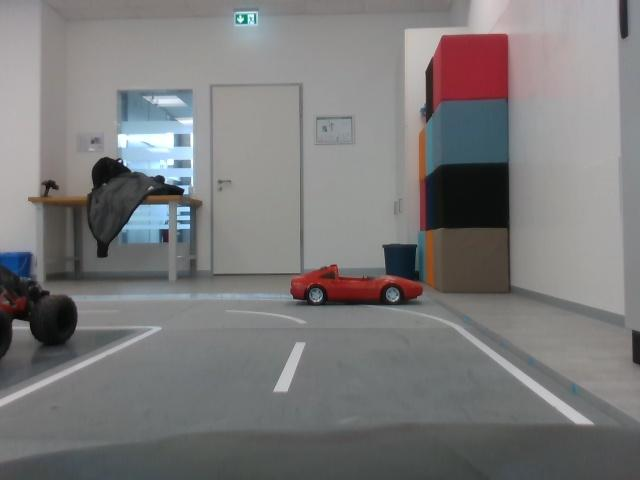car: (1, 264, 79, 355), (286, 263, 428, 312)
